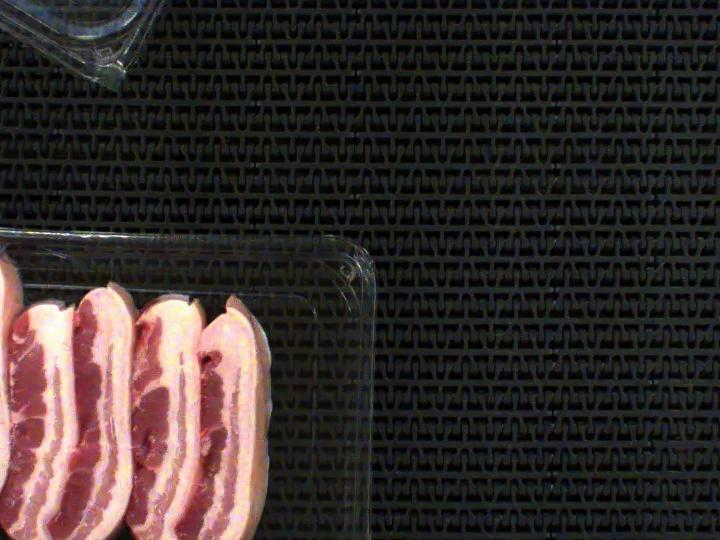packaging-error: (0, 232, 14, 264)
